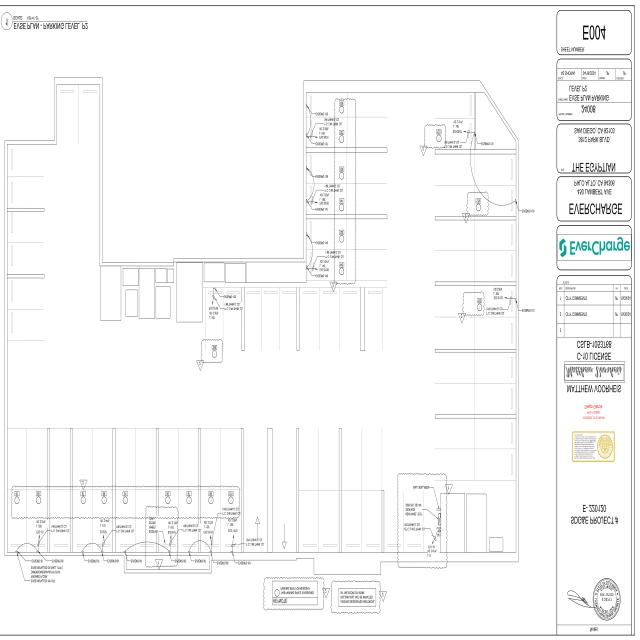evse: (472, 126, 477, 140), (304, 192, 308, 207), (304, 159, 308, 173), (13, 548, 22, 554), (514, 194, 518, 207), (514, 293, 518, 305), (304, 128, 308, 140), (35, 549, 42, 555), (122, 548, 129, 554), (207, 549, 215, 554), (305, 98, 309, 108), (304, 228, 308, 238), (304, 262, 308, 272), (212, 284, 218, 290), (166, 549, 173, 554), (185, 549, 192, 554), (79, 550, 87, 554), (98, 550, 106, 554), (228, 550, 235, 554)
gfi: (438, 529, 442, 533)
panel: (437, 512, 443, 526)
